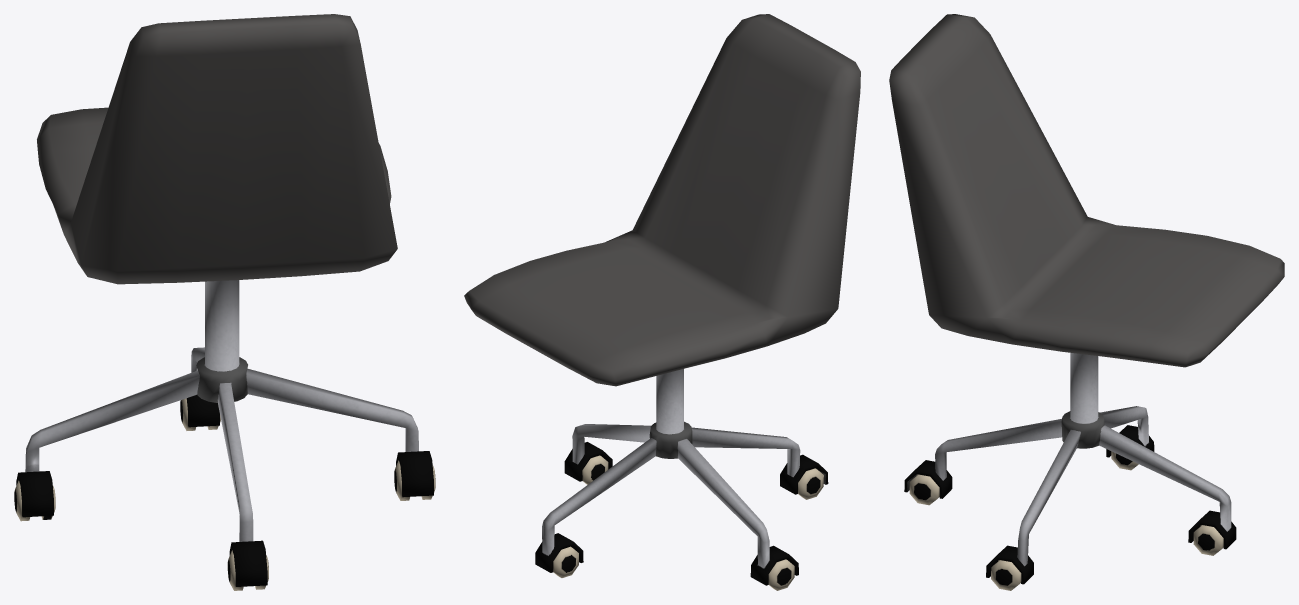
Rendered from Biblioteca_SillaBibliotecaria_001.fbx.
3 views of the same model, side by side, from view 1: azimuth 30°, elevation 25°; view 2: azimuth 150°, elevation 25°; view 3: azimuth 270°, elevation 25° (orthographic). The views are drawn at different scales.
Parts seen in each view (by area): view 1: Biblioteca_SillaBibliotecaria.001; view 2: Biblioteca_SillaBibliotecaria.001; view 3: Biblioteca_SillaBibliotecaria.001.
Boxes of the visible parts, x1,y1,x2,y2 form: Biblioteca_SillaBibliotecaria.001: (14, 14, 435, 590); Biblioteca_SillaBibliotecaria.001: (464, 14, 860, 590); Biblioteca_SillaBibliotecaria.001: (889, 14, 1284, 590).
Size of the model in its own units: 67.28 by 97.38 by 76.59.
